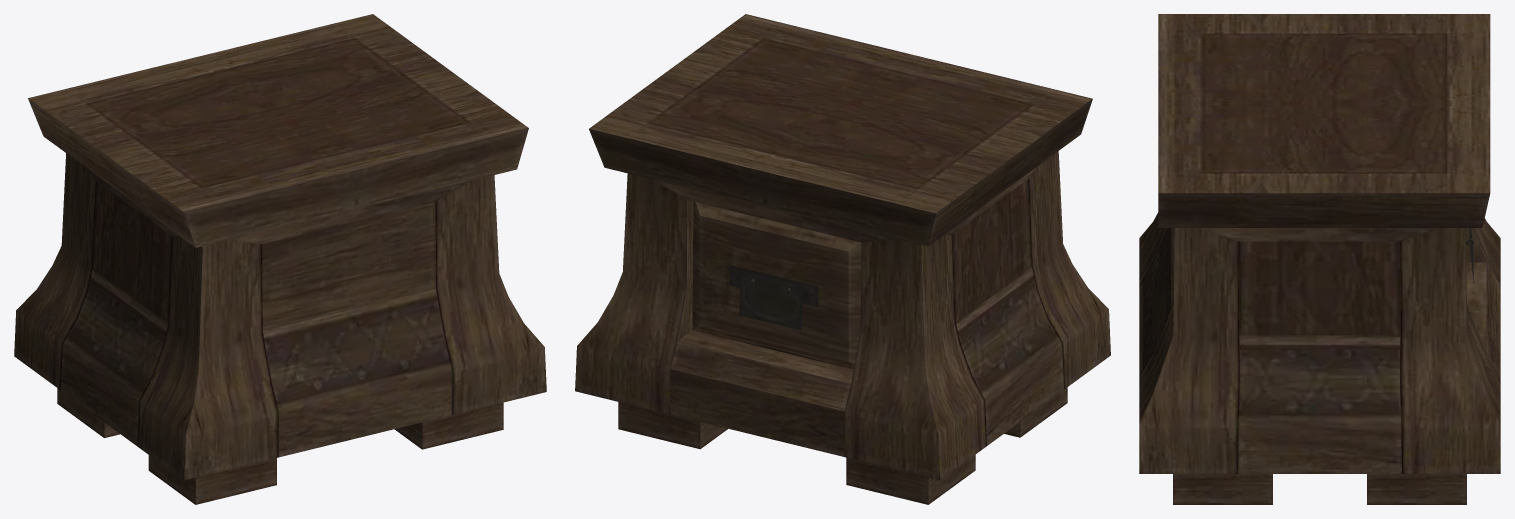
Rendered from eso_gu3_woodfurniture3-transformed.glb.
3 renders of one model, left to right at view 1: azimuth 30°, elevation 25°; view 2: azimuth 150°, elevation 25°; view 3: azimuth 270°, elevation 25°, orthographic. The views are drawn at different scales.
Parts seen in each view (by area): view 1: default; view 2: default; view 3: default.
Part boxes in pixels (box(x1,y1,x2,y2)): default: box(14, 14, 546, 504); default: box(575, 14, 1110, 504); default: box(1139, 14, 1500, 504).
Size of the model in its own units: 1.04 by 0.8309 by 0.8461.
Materials: 1 (1 with a texture image).
